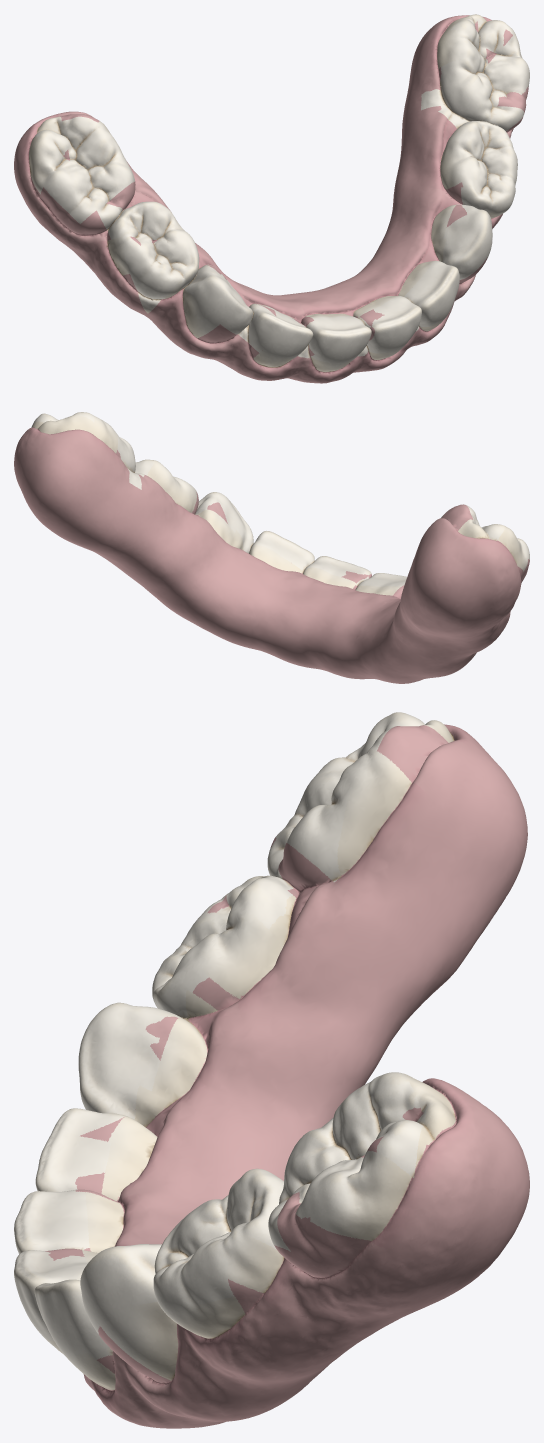
File: arcada_temporal_inferior_lite.glb
3 views of the same model, one above another, from view 1: azimuth 30°, elevation 25°; view 2: azimuth 150°, elevation 25°; view 3: azimuth 270°, elevation 25° (orthographic). The views are drawn at different scales.
Parts seen in each view (by area): view 1: mesh_node; view 2: mesh_node; view 3: mesh_node.
Boxes of the visible parts, x1,y1,x2,y2 form: mesh_node: (14,14,529,383); mesh_node: (14,412,529,683); mesh_node: (14,712,529,1428).
Bounding box in the file's own units: 1.9 × 0.9393 × 0.9245.
